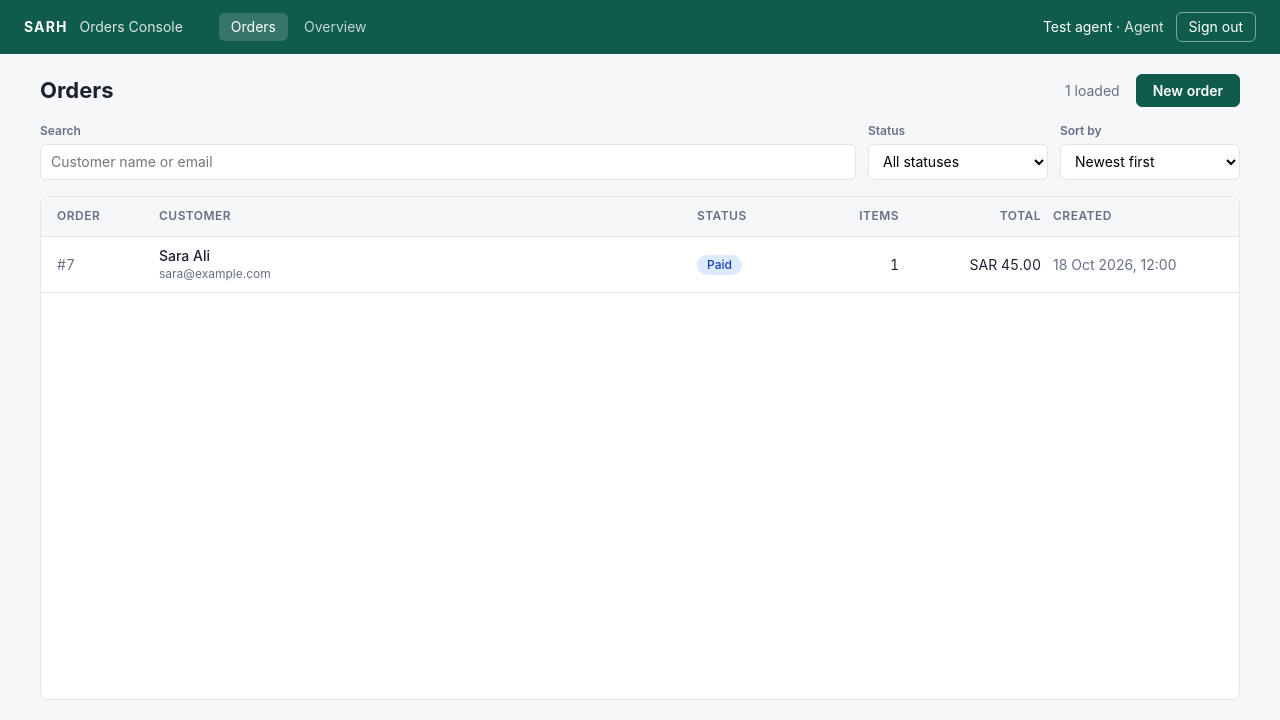
App session handling › returns to the sign-in screen when the session expires mid-use
Expected: the heading "Orders" is shown, [40, 75, 114, 106]
Select "Paid" in the dropdown labelled "Status". click: (958, 162)
box: [868, 144, 1048, 180]
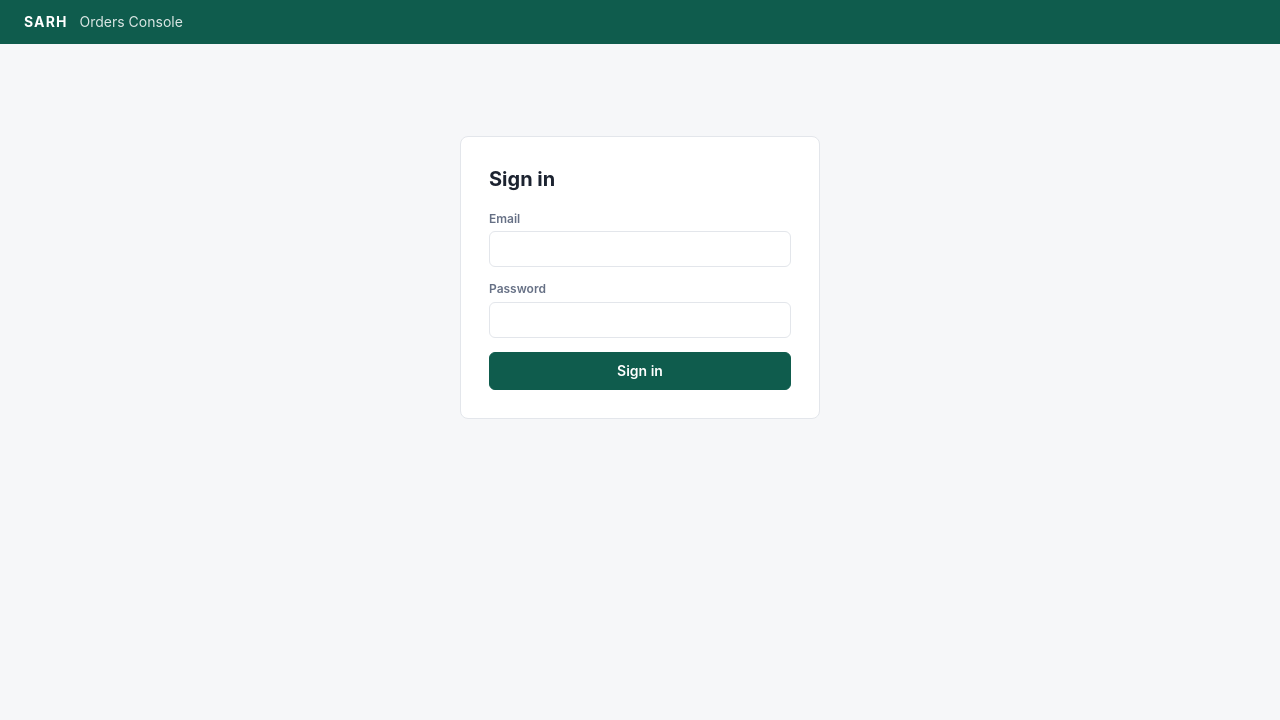
Expected: the heading "Sign in" is shown, [489, 167, 555, 191]
